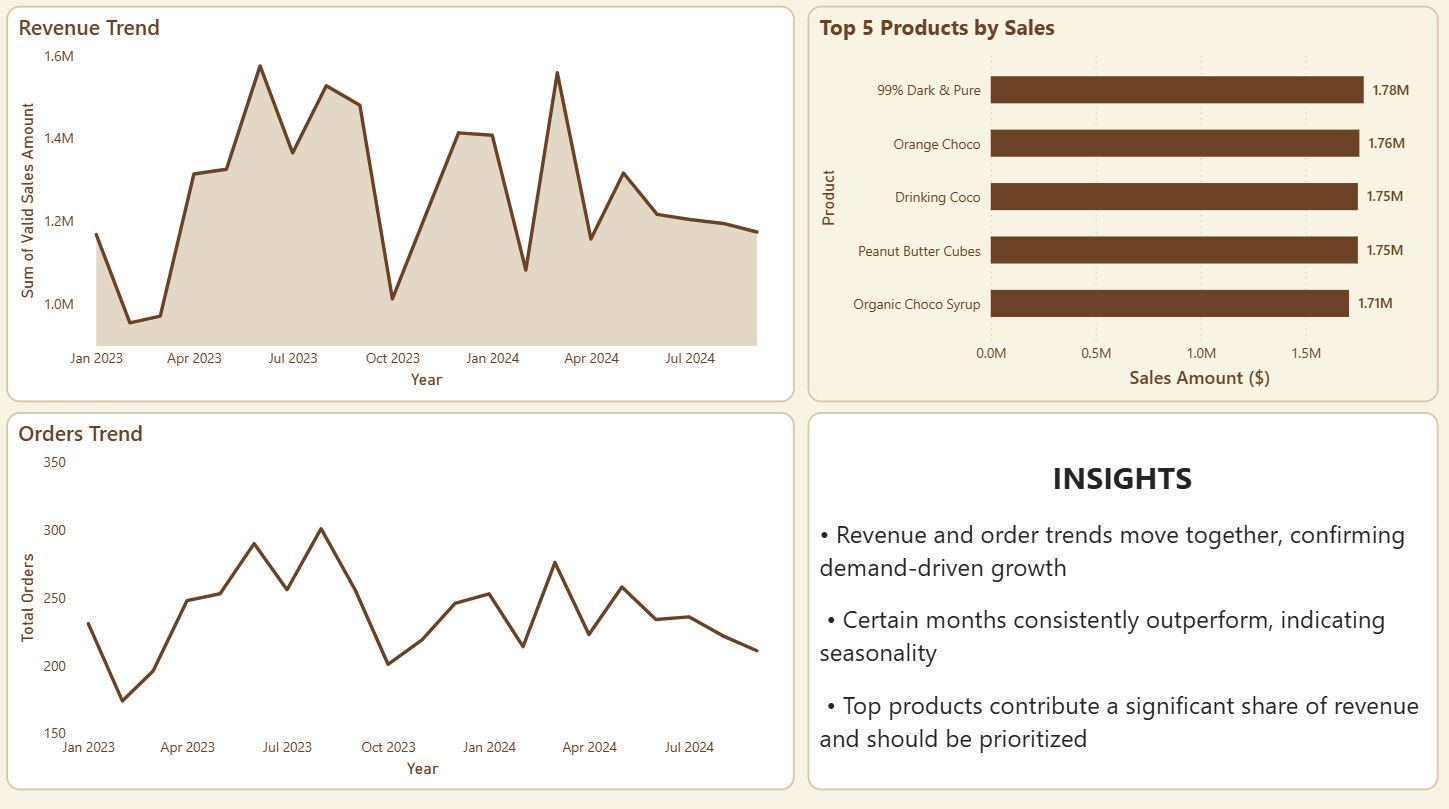

Layout of this report page (visuals, bound fields, positions):
{"tool":"powerbi","page":{"name":"Performance & Trends","canvas":[1280,720],"ordinal":1},"visuals":[{"type":"lineChart","title":" Revenue Trend","fields":{"Y":["Sum(Table1.Valid Sales Amount)"],"Category":["Table1.Date.Variation.Date Hierarchy.Year","Table1.Date.Variation.Date Hierarchy.Month"]},"box":[9.6,12,693.9,348.8],"z":0},{"type":"barChart","title":"Top 5 Products by Sales ","fields":{"Category":["Table1.Product"],"Y":["Sum(Table1.Valid Sales Amount)"]},"box":[714.3,12,554.9,348.8],"z":1000},{"type":"textbox","box":[714.3,369.1,554.9,333.2],"z":2000},{"type":"lineChart","title":" Orders Trend","fields":{"Category":["Table1.Date.Variation.Date Hierarchy.Year","Table1.Date.Variation.Date Hierarchy.Month"],"Y":["Table1.Total Orders"]},"box":[9.6,369.1,693.9,333.2],"z":3000}]}

Visuals, with their boxes in screenshot pixels (x1, y1, x2, y2), scaled from the page's 1280x720 canvas onto the 1449x809 screenshot:
" Revenue Trend" lineChart: [11,13,796,405]
"Top 5 Products by Sales " barChart: [809,13,1437,405]
textbox: [809,415,1437,789]
" Orders Trend" lineChart: [11,415,796,789]
